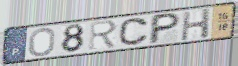8: (59, 23, 85, 54)
C: (118, 17, 151, 47)
H: (180, 7, 213, 42)
O: (28, 27, 57, 58)
P: (147, 11, 182, 46)
R: (88, 19, 119, 51)
